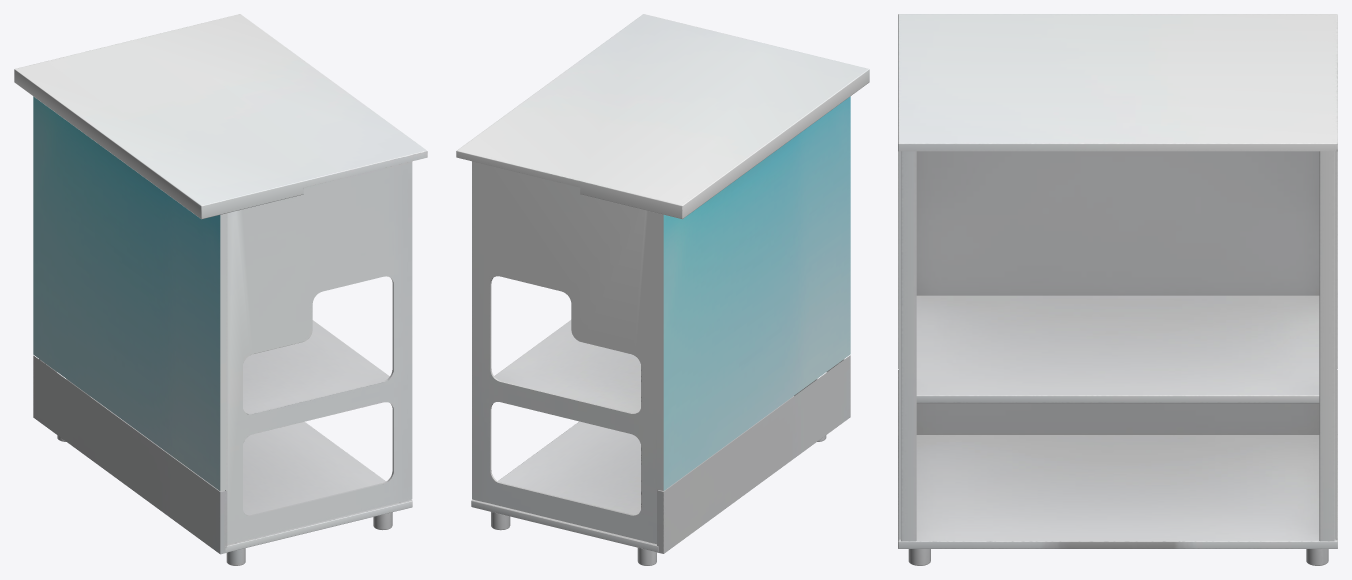
Rendered from lumino_buffet_white_wood.glb.
3 renders of one model, left to right at view 1: azimuth 30°, elevation 25°; view 2: azimuth 150°, elevation 25°; view 3: azimuth 270°, elevation 25°, orthographic. The views are drawn at different scales.
Parts seen in each view (by area): view 1: lumino_buffet-white; view 2: lumino_buffet-white; view 3: lumino_buffet-white.
Part boxes in pixels (bbox=[...]): lumino_buffet-white: bbox=[14, 14, 427, 565]; lumino_buffet-white: bbox=[456, 14, 869, 565]; lumino_buffet-white: bbox=[898, 14, 1337, 565].
Size of the model in its own units: 0.698 by 1.1 by 1.
Materials: 1 (1 with a texture image).
